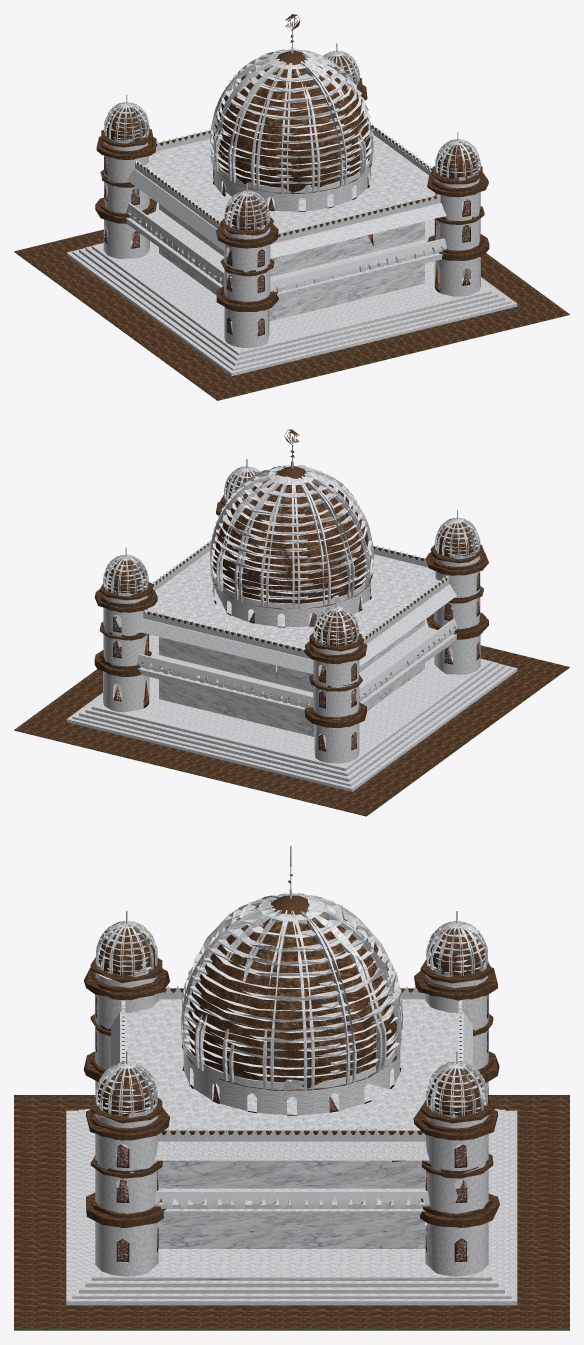
Rendered from q_masjid.glb.
3 renders of one model, top to bottom at view 1: azimuth 30°, elevation 25°; view 2: azimuth 150°, elevation 25°; view 3: azimuth 270°, elevation 25°, orthographic. The views are drawn at different scales.
Parts seen in each view (by area): view 1: Object_8, Object_27, Object_25, Object_33, Object_4; view 2: Object_8, Object_27, Object_25, Object_33, Object_4; view 3: Object_8, Object_27, Object_25, Object_33.
Part boxes in pixels (x1,y1,x2,y2): Object_8: (66,30,517,376); Object_27: (14,14,569,400); Object_25: (104,49,480,332); Object_33: (104,156,470,336); Object_4: (14,251,569,400); Object_8: (66,445,517,791); Object_27: (14,429,569,815); Object_25: (104,465,479,744); Object_33: (113,572,479,751); Object_4: (14,667,569,816); Object_8: (66,867,517,1305); Object_27: (14,846,569,1329); Object_25: (96,893,487,1242); Object_33: (95,994,488,1262).
Bounding box in the file's own units: 32.16 × 23.5 × 32.16.
14 materials, 11 textured.
